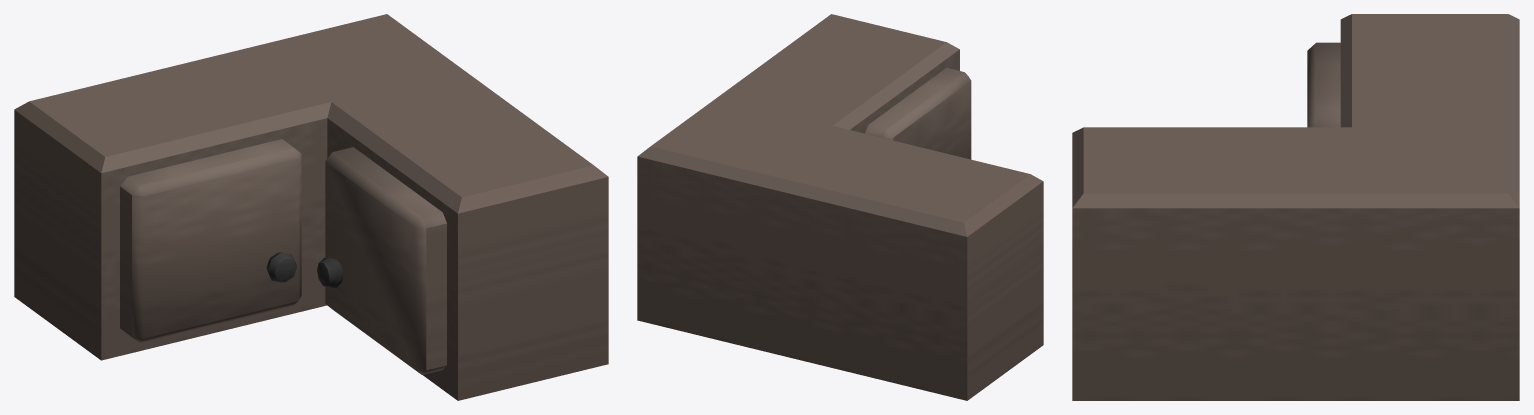
The model's file is kitchencabinet_corner_half_styleB.gltf.
3 views of the same model, side by side, from view 1: azimuth 30°, elevation 25°; view 2: azimuth 150°, elevation 25°; view 3: azimuth 270°, elevation 25° (orthographic). The views are drawn at different scales.
Parts seen in each view (by area): view 1: kitchencabinet_corner_half_styleB; view 2: kitchencabinet_corner_half_styleB; view 3: kitchencabinet_corner_half_styleB.
Boxes of the visible parts, <box> form: kitchencabinet_corner_half_styleB: <box>14,14,608,400</box>; kitchencabinet_corner_half_styleB: <box>637,14,1043,400</box>; kitchencabinet_corner_half_styleB: <box>1072,14,1519,400</box>.
Size of the model in its own units: 2 by 1 by 2.
1 material, 1 textured.
